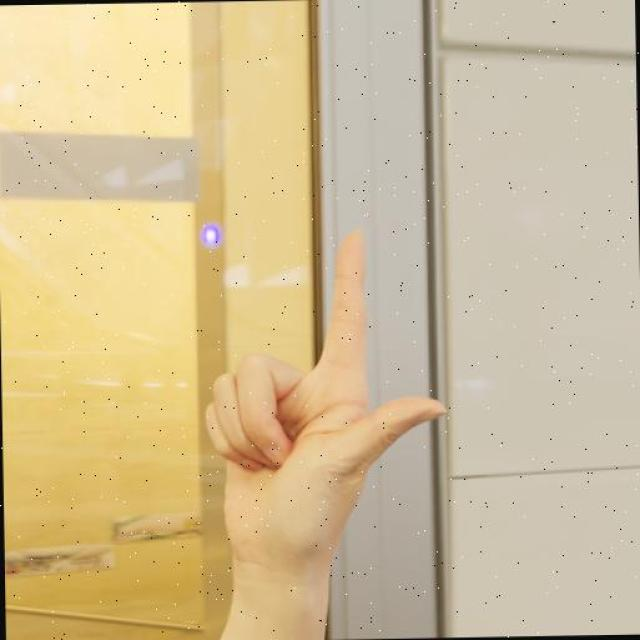L: (197, 222, 449, 539)
